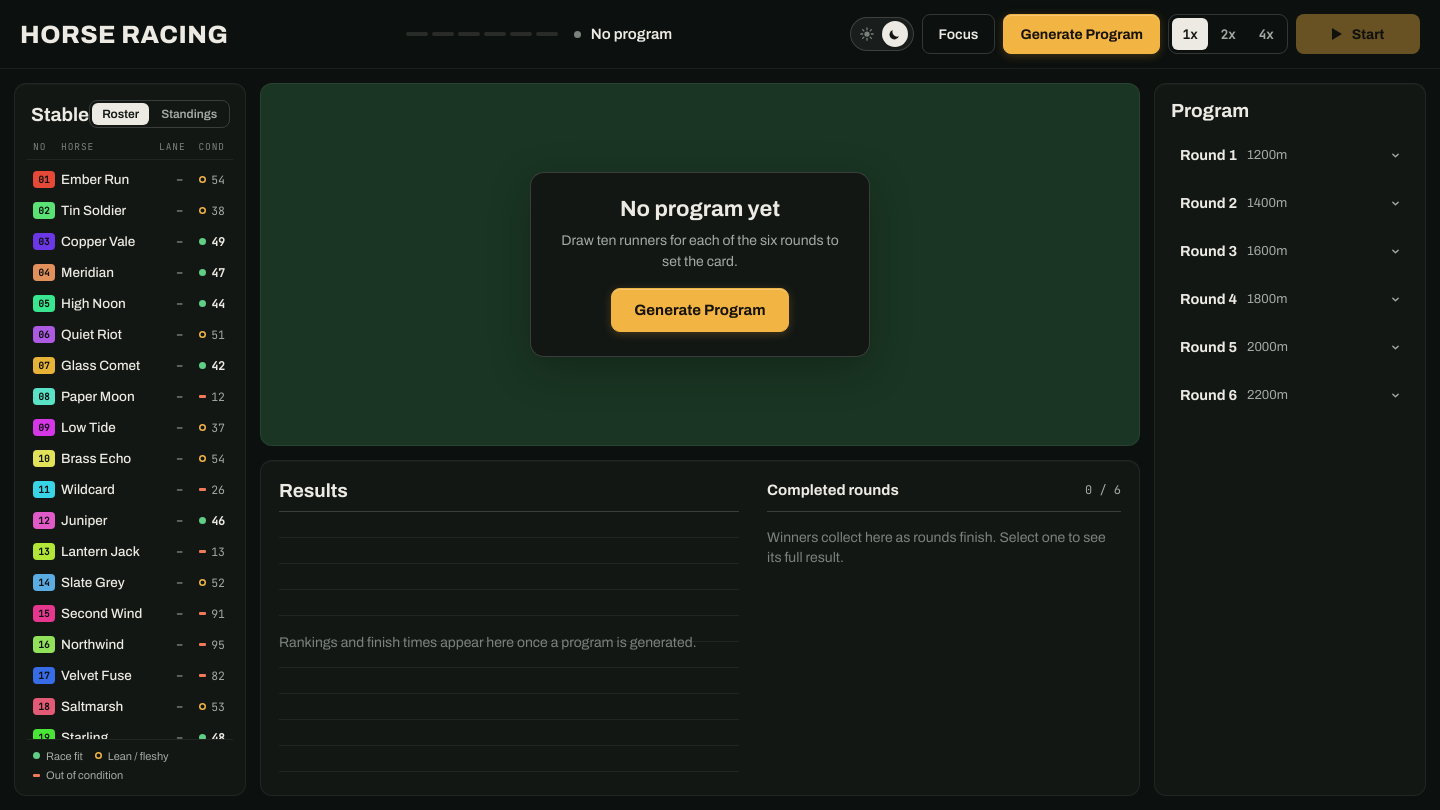
Scenario: App › regenerating mid-race › asks first, pauses the race and focuses the safe choice
Click the button "Generate Program" in the row of "HORSE RACING". click: (1082, 34)
box: [1003,14,1160,54]
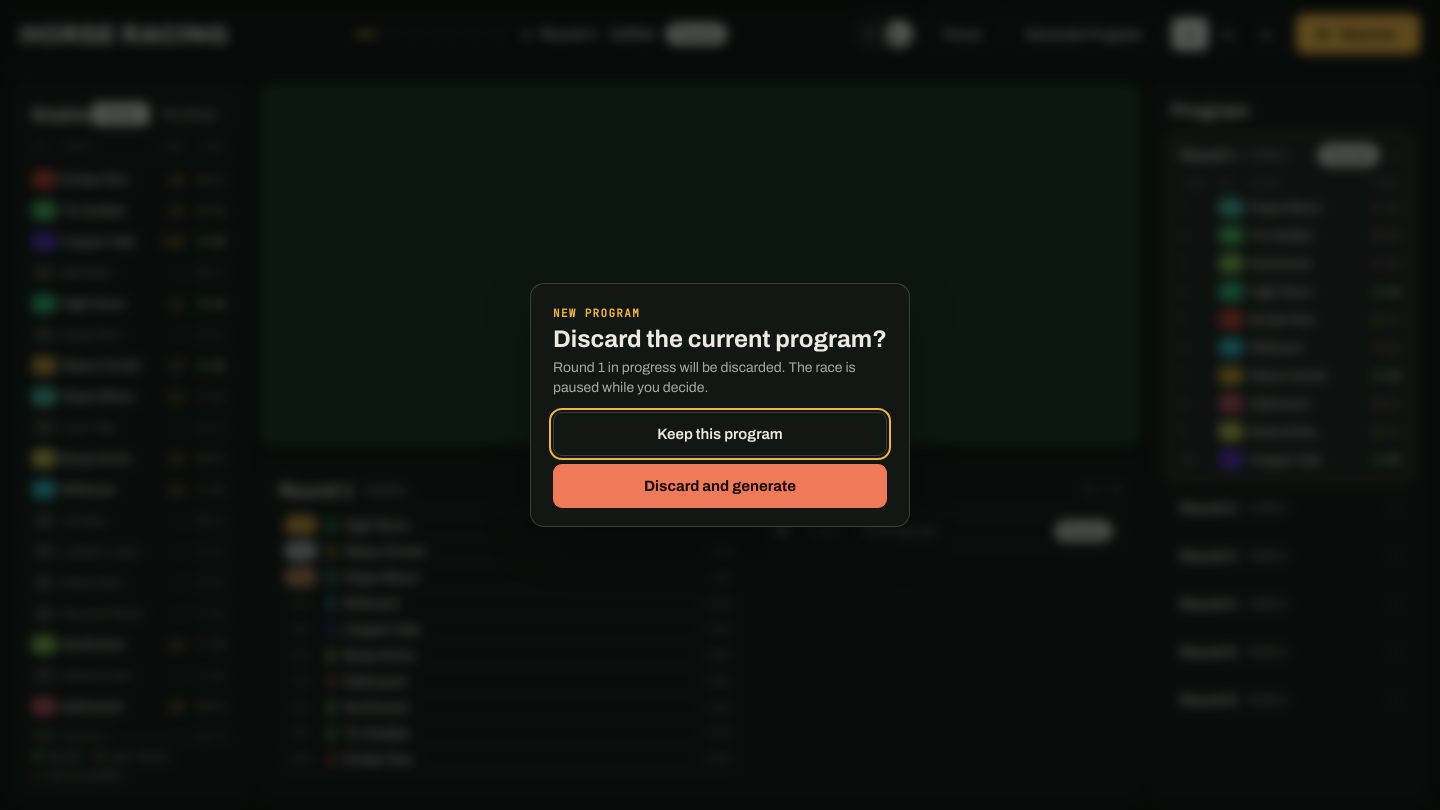
Expected: the dialog shows "Round 1 in progress will be discarded", [553,360,856,395]
Expected: the button "Keep this program" is shown, [553,412,887,456]
